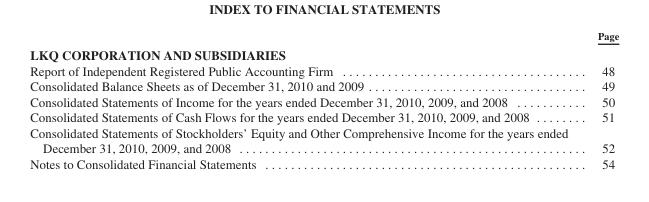table: (29, 29, 618, 170)
table column: (29, 29, 582, 170), (582, 29, 618, 170)
table column header: (29, 29, 618, 44)
table projected row header: (29, 44, 618, 62)
table row: (29, 124, 618, 155), (29, 44, 618, 62), (29, 62, 618, 78), (29, 93, 618, 109), (29, 29, 618, 44), (29, 78, 618, 93), (29, 109, 618, 124), (29, 155, 618, 170)
